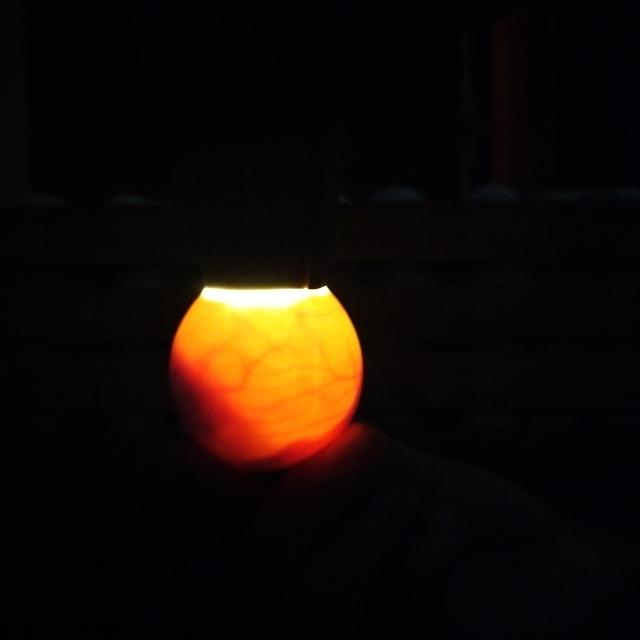Embriao: (166, 350, 347, 469)
